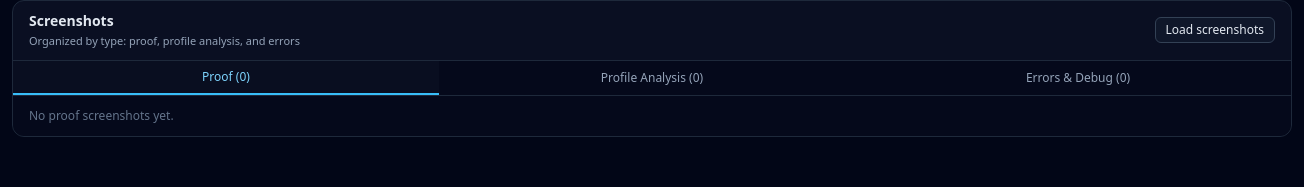
Test: Screenshots › displays error message when API fails
Click the button "Load screenshots": (1215, 30) [1154,17,1275,43]
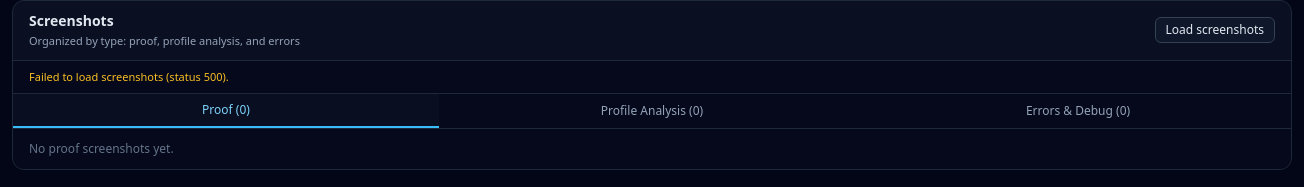
Now the text "Failed to load screenshots (status 500)." is shown, box [13,60,1291,94]
